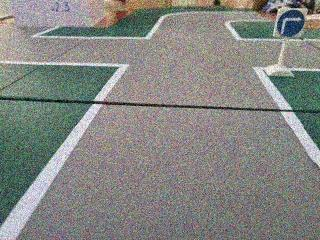right: (272, 5, 309, 39)
